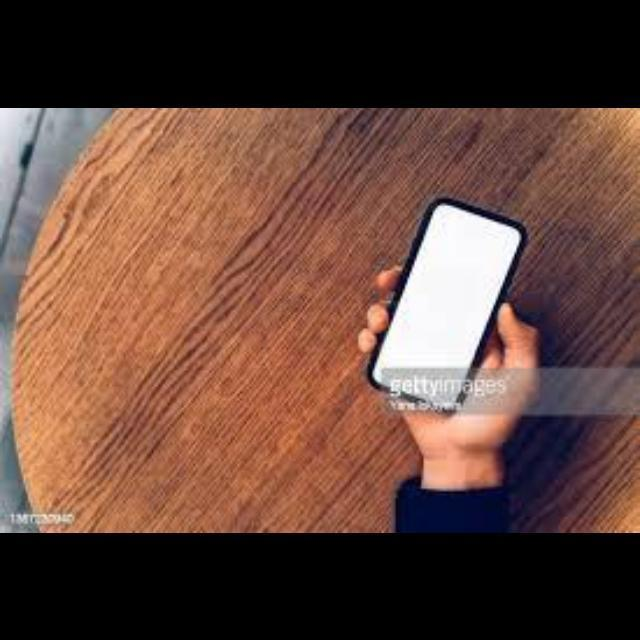PhoneUse: (368, 196, 530, 414)
